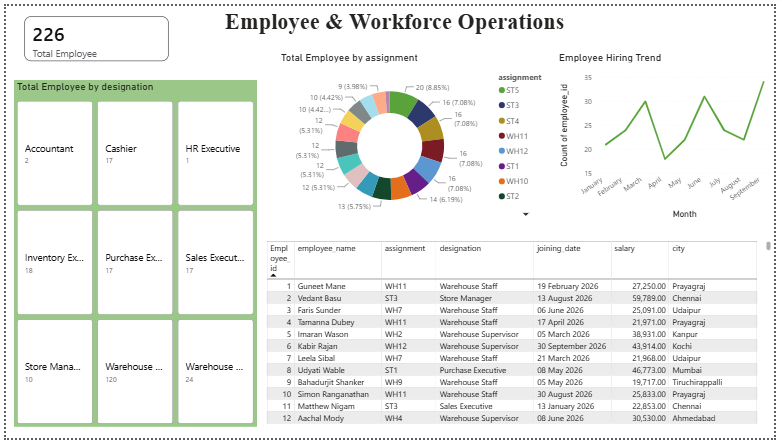

What the dashboard file says about the page in this screenshot:
{"tool":"powerbi","page":{"name":"Page 5","canvas":[1280,720],"ordinal":4},"visuals":[{"type":"textbox","box":[351.2,0,592.7,74.6],"z":0},{"type":"cardVisual","fields":{"Data":["retail_sales category.Total Employee"]},"box":[13.2,0,275.1,109.8],"z":1000},{"type":"advancedSlicerVisual","fields":{"Label":["retail_sales category.Total Employee"],"Values":["retail_sales employee.designation"]},"box":[13.2,122.9,405.4,578],"z":2000},{"type":"donutChart","fields":{"Category":["retail_sales employee.assignment"],"Y":["retail_sales category.Total Employee"]},"box":[453.7,74.6,462.4,285.4],"z":3000},{"type":"tableEx","fields":{"Values":["retail_sales employee.employee_id","retail_sales employee.employee_name","retail_sales employee.assignment","retail_sales employee.designation","retail_sales employee.joining_date","retail_sales employee.salary","retail_sales location.city"]},"box":[428.8,386.3,851.7,314.6],"z":4000},{"type":"lineChart","title":"Employee Hiring Trend","fields":{"Category":["retail_sales employee.joining_date.Variation.Date Hierarchy.Month"],"Y":["CountNonNull(retail_sales employee.employee_id)"]},"box":[916,75,364,285],"z":5000}]}

Visuals, with their boxes in screenshot pixels (x1, y1, x2, y2), scaled from the page's 1280x720 canvas onto the 782x440 screenshot:
textbox: bbox=(215, 0, 577, 46)
cardVisual - retail_sales category.Total Employee: bbox=(8, 0, 176, 67)
advancedSlicerVisual - retail_sales category.Total Employee x retail_sales employee.designation: bbox=(8, 75, 256, 428)
donutChart - retail_sales employee.assignment x retail_sales category.Total Employee: bbox=(277, 46, 560, 220)
tableEx - retail_sales employee.employee_id x retail_sales employee.employee_name: bbox=(262, 236, 781, 428)
"Employee Hiring Trend" lineChart: bbox=(560, 46, 781, 220)
